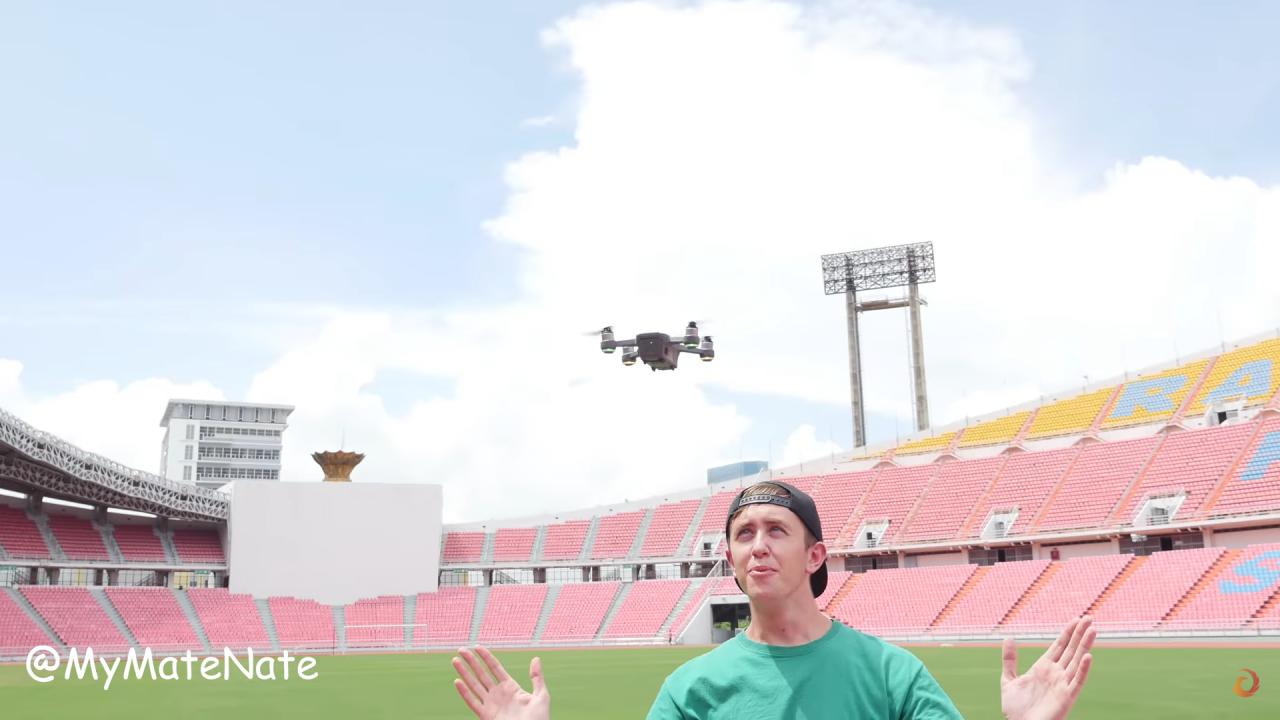Drone: (574, 310, 734, 381)
